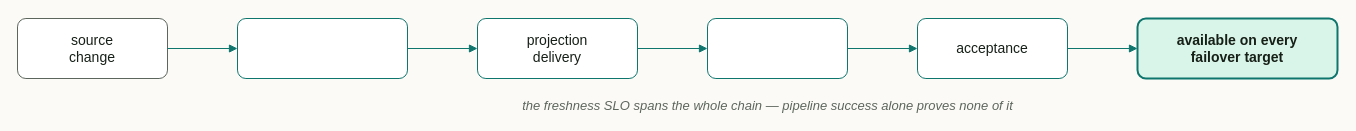
The diagram is 1356 pixels wide and 131 high, and some of its shapes have lost their labels. The centre of each missing label's shape, as x and y in pixels:
"mastered publication" belongs at [322,48].
"validation" belongs at [777,48].
